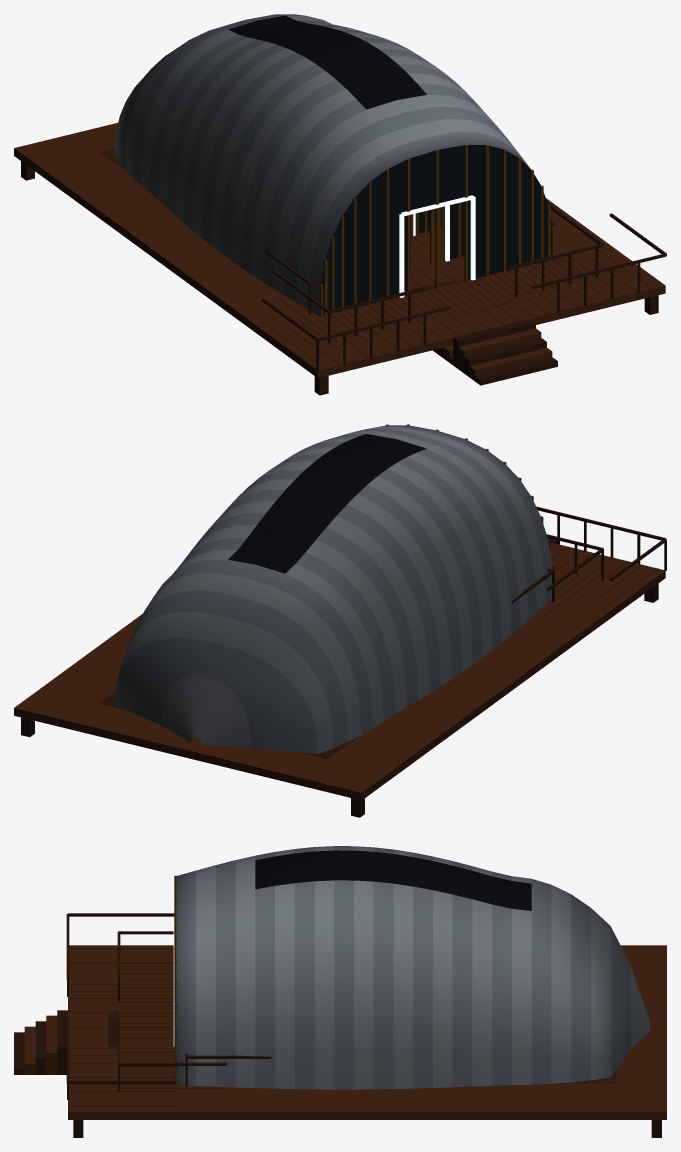
Rendered from shaddai_forest_homes_v01.glb.
3 views of the same model, one above another, from view 1: azimuth 30°, elevation 25°; view 2: azimuth 150°, elevation 25°; view 3: azimuth 270°, elevation 25° (orthographic).
Parts seen in each view (by area): view 1: home_forest_pod_grand, home_forest_pod_long, home_forest_pod_small; view 2: home_forest_pod_grand, home_forest_pod_long; view 3: home_forest_pod_grand, home_forest_pod_long, home_forest_pod_small.
Boxes of the visible parts, box(x1,y1,x2,y2) form: home_forest_pod_grand: box(14, 14, 666, 395); home_forest_pod_long: box(78, 152, 603, 366); home_forest_pod_small: box(126, 178, 554, 314); home_forest_pod_grand: box(14, 424, 666, 817); home_forest_pod_long: box(77, 534, 603, 733); home_forest_pod_grand: box(14, 846, 666, 1137); home_forest_pod_long: box(108, 931, 616, 1094); home_forest_pod_small: box(185, 1053, 548, 1087).
Size of the model in its own units: 11.78 by 6.3 by 19.3.
